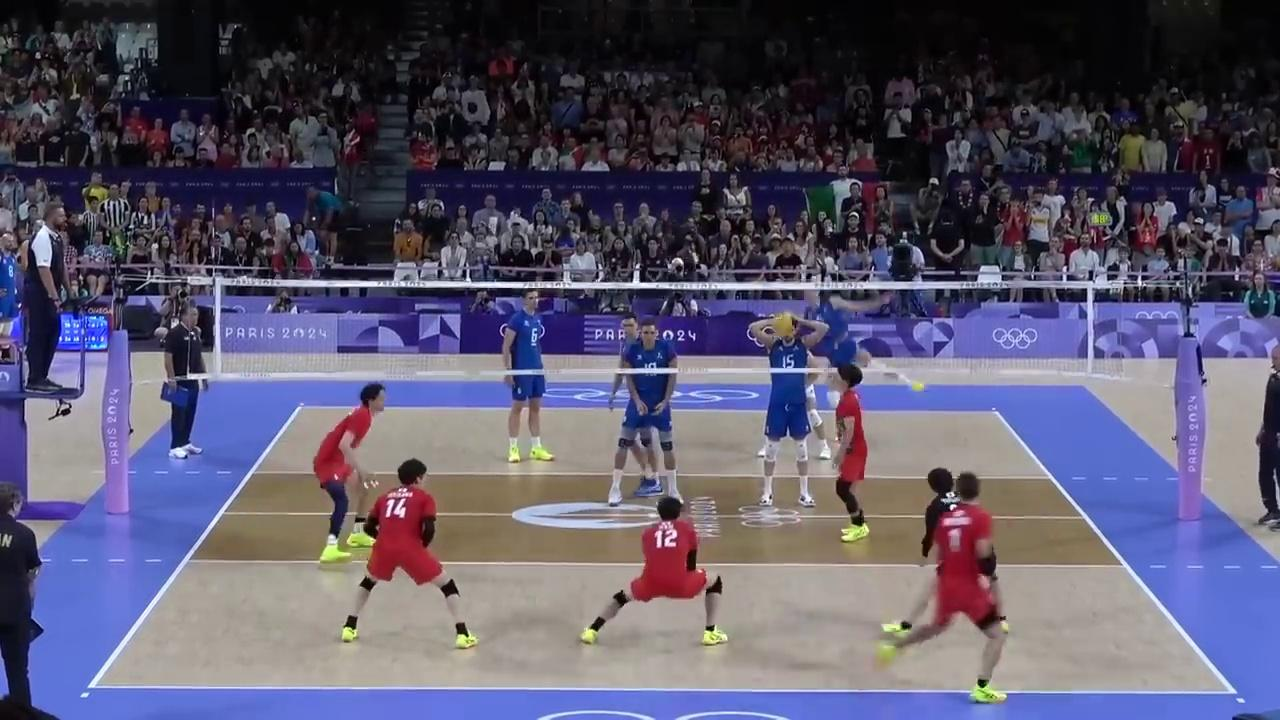ball: (775, 314, 795, 337)
